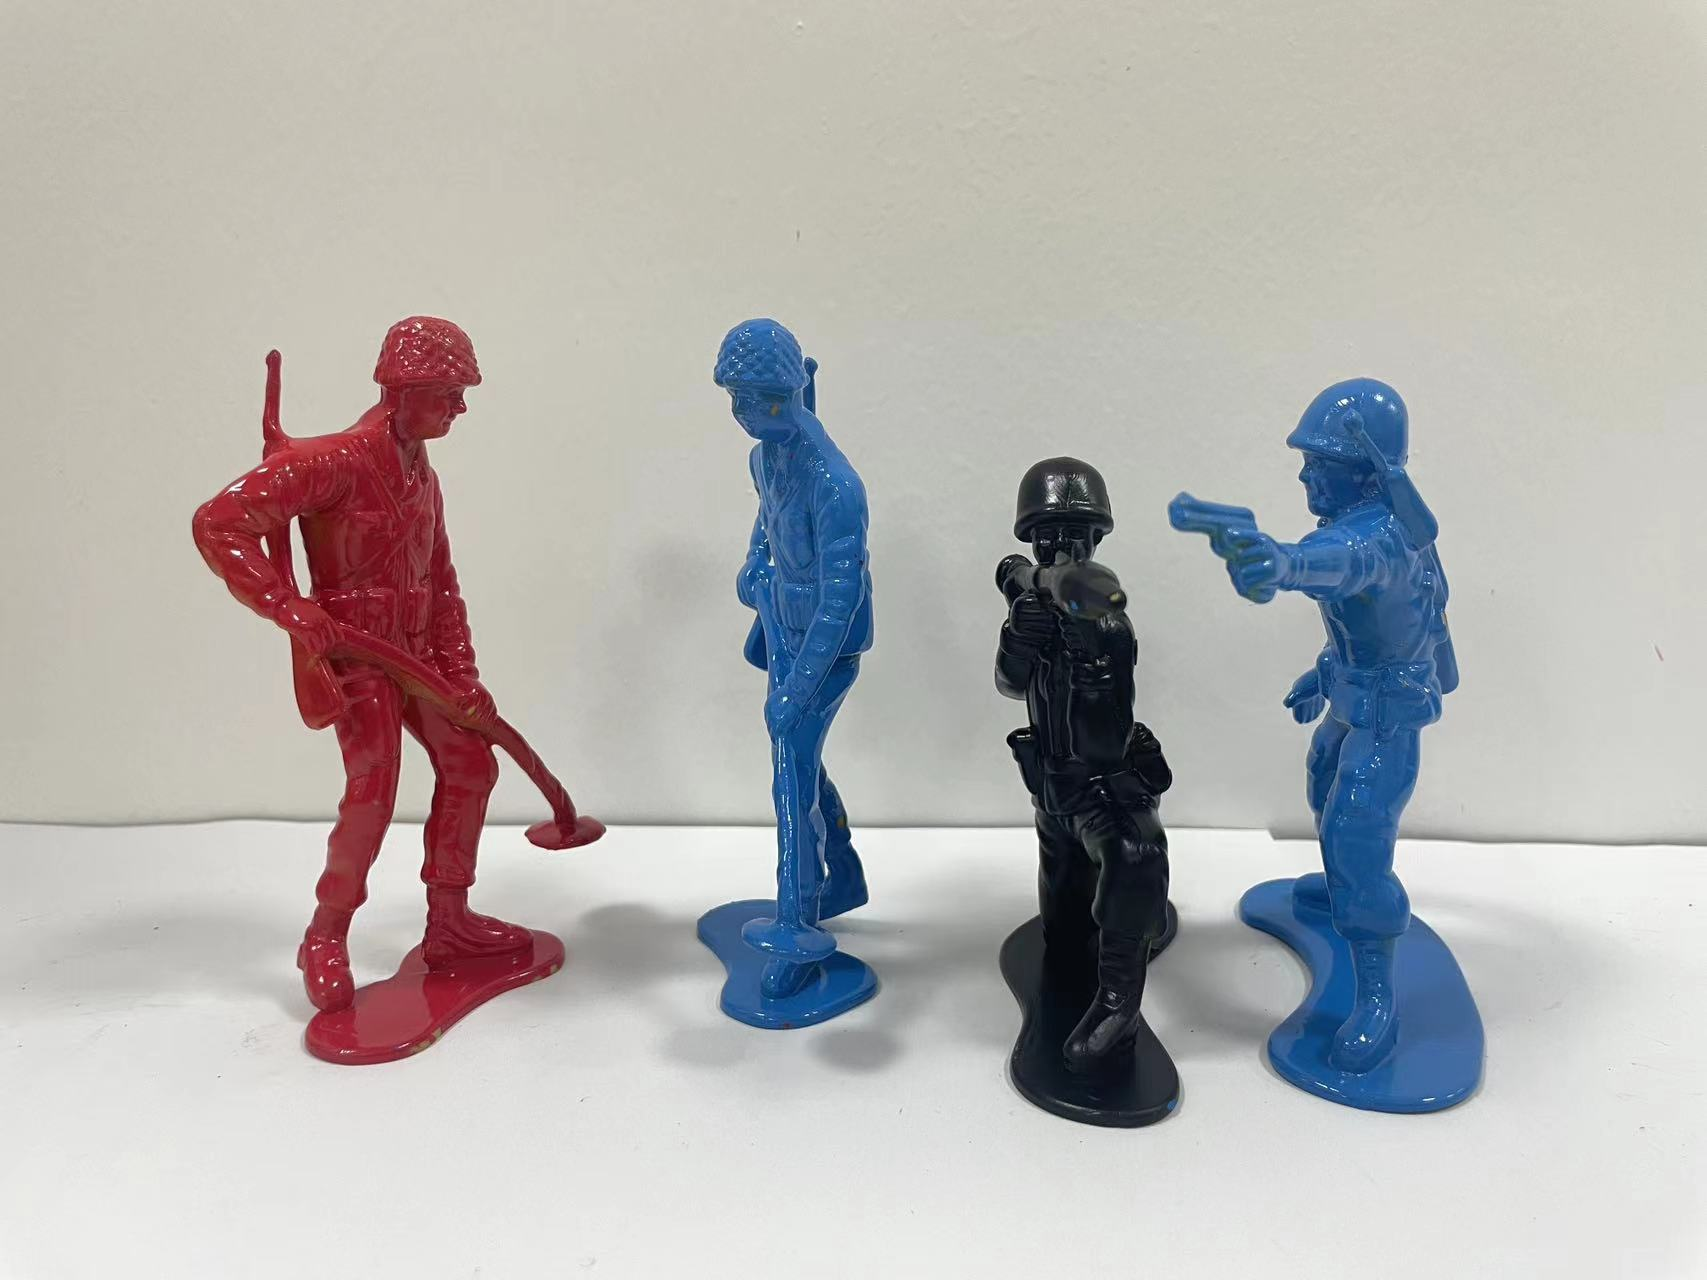black: (976, 421, 1191, 1160)
blue: (1167, 352, 1485, 1140), (681, 272, 915, 1086)
red: (155, 272, 637, 1101)
